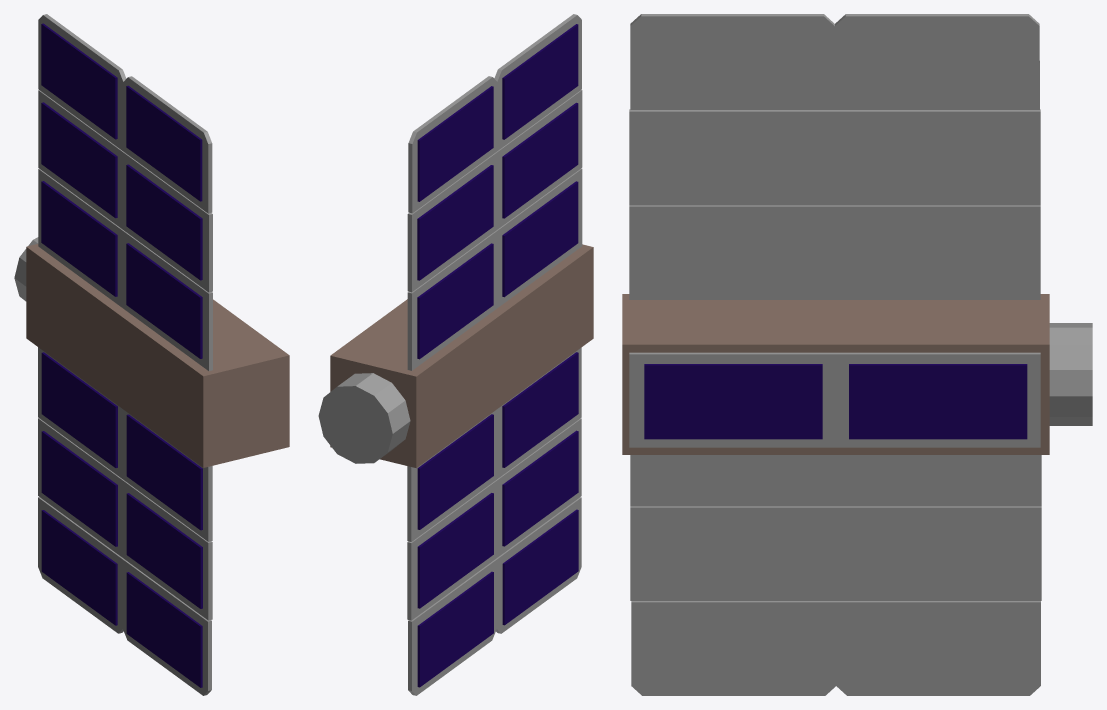
Rendered from flock_med.gltf.
The picture shows the model from 3 angles, left to right: view 1: azimuth 30°, elevation 25°; view 2: azimuth 150°, elevation 25°; view 3: azimuth 270°, elevation 25°; orthographic projection. The views are drawn at different scales.
Parts seen in each view (by area): view 1: Cube.008, Cube, Cube.014, Cube.015, Cube.004, Cube.009, Cube.005, Cube.006, Cube.003, Cube.011, Cube.018, Cube.012 (+8 smaller); view 2: Cube.008, Cylinder.001, Cube, Cube.014, Cube.015, Cube.009, Cube.005, Cube.003, Cube.004, Cube.006, Cube.018, Cube.012 (+8 smaller); view 3: Cube.016, Cube.017, Cube.007, Cube.013, Cube.010, Cube.008, Cube.001, Cube.020, Cube.002, Cube.021, Cylinder.001.
Boxes of the visible parts, x1,y1,x2,y2 form: Cube.008: (26, 244, 289, 467); Cube: (126, 414, 202, 530); Cube.014: (41, 102, 117, 218); Cube.015: (126, 164, 202, 280); Cube.004: (126, 243, 202, 358); Cube.009: (41, 352, 117, 467); Cube.005: (126, 493, 202, 608); Cube.006: (41, 431, 117, 546); Cube.003: (41, 181, 117, 296); Cube.011: (126, 572, 202, 687); Cube.018: (41, 23, 117, 139); Cube.012: (41, 510, 117, 625); Cube.008: (330, 244, 593, 468); Cylinder.001: (318, 373, 410, 463); Cube: (502, 352, 578, 467); Cube.014: (417, 165, 493, 280); Cube.015: (502, 102, 578, 218); Cube.009: (417, 414, 493, 529); Cube.005: (502, 430, 578, 546); Cube.003: (417, 243, 493, 359); Cube.004: (502, 181, 578, 297); Cube.006: (417, 493, 493, 608); Cube.018: (417, 86, 493, 201); Cube.012: (417, 571, 493, 687); Cube.016: (629, 109, 1040, 205); Cube.017: (630, 14, 1039, 109); Cube.007: (630, 506, 1041, 600); Cube.013: (629, 205, 1040, 299); Cube.010: (631, 601, 1040, 695); Cube.008: (622, 294, 1049, 454); Cube.001: (630, 455, 1041, 506); Cube.020: (644, 364, 822, 439); Cube.002: (849, 364, 1027, 439); Cube.021: (629, 352, 1040, 447); Cylinder.001: (1049, 323, 1092, 425).
Size of the model in its own units: 1.63 by 9.63 by 6.04.
